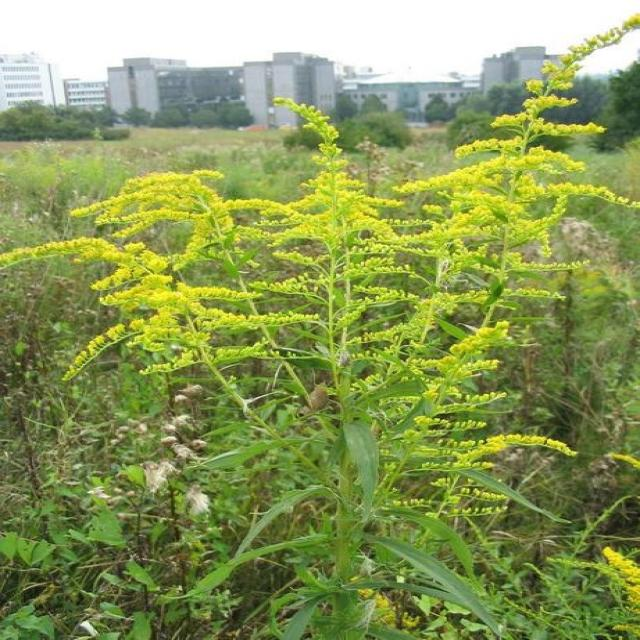ambrosia: (256, 72, 626, 295), (72, 157, 293, 420), (302, 300, 543, 491)
